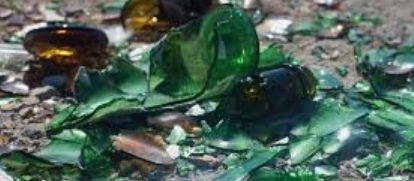glass: (50, 0, 263, 130)
